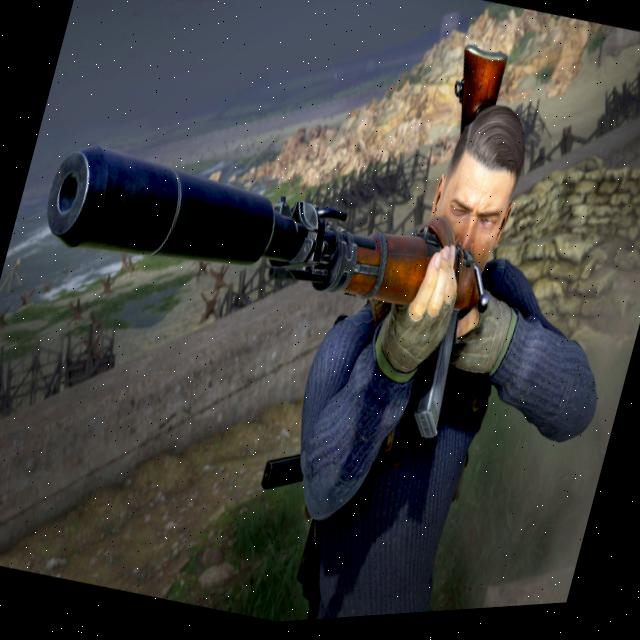firearm: (9, 119, 503, 471), (446, 41, 511, 130)
